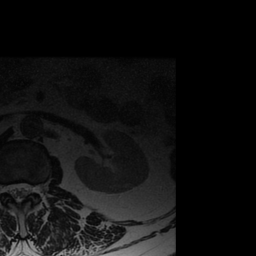CCS_normal: (15, 177, 22, 211)
LFS_normal: (31, 180, 38, 197)
LLS_normal: (23, 177, 31, 203)
RFS_normal: (0, 177, 8, 199)
RLS_normal: (7, 178, 15, 203)
